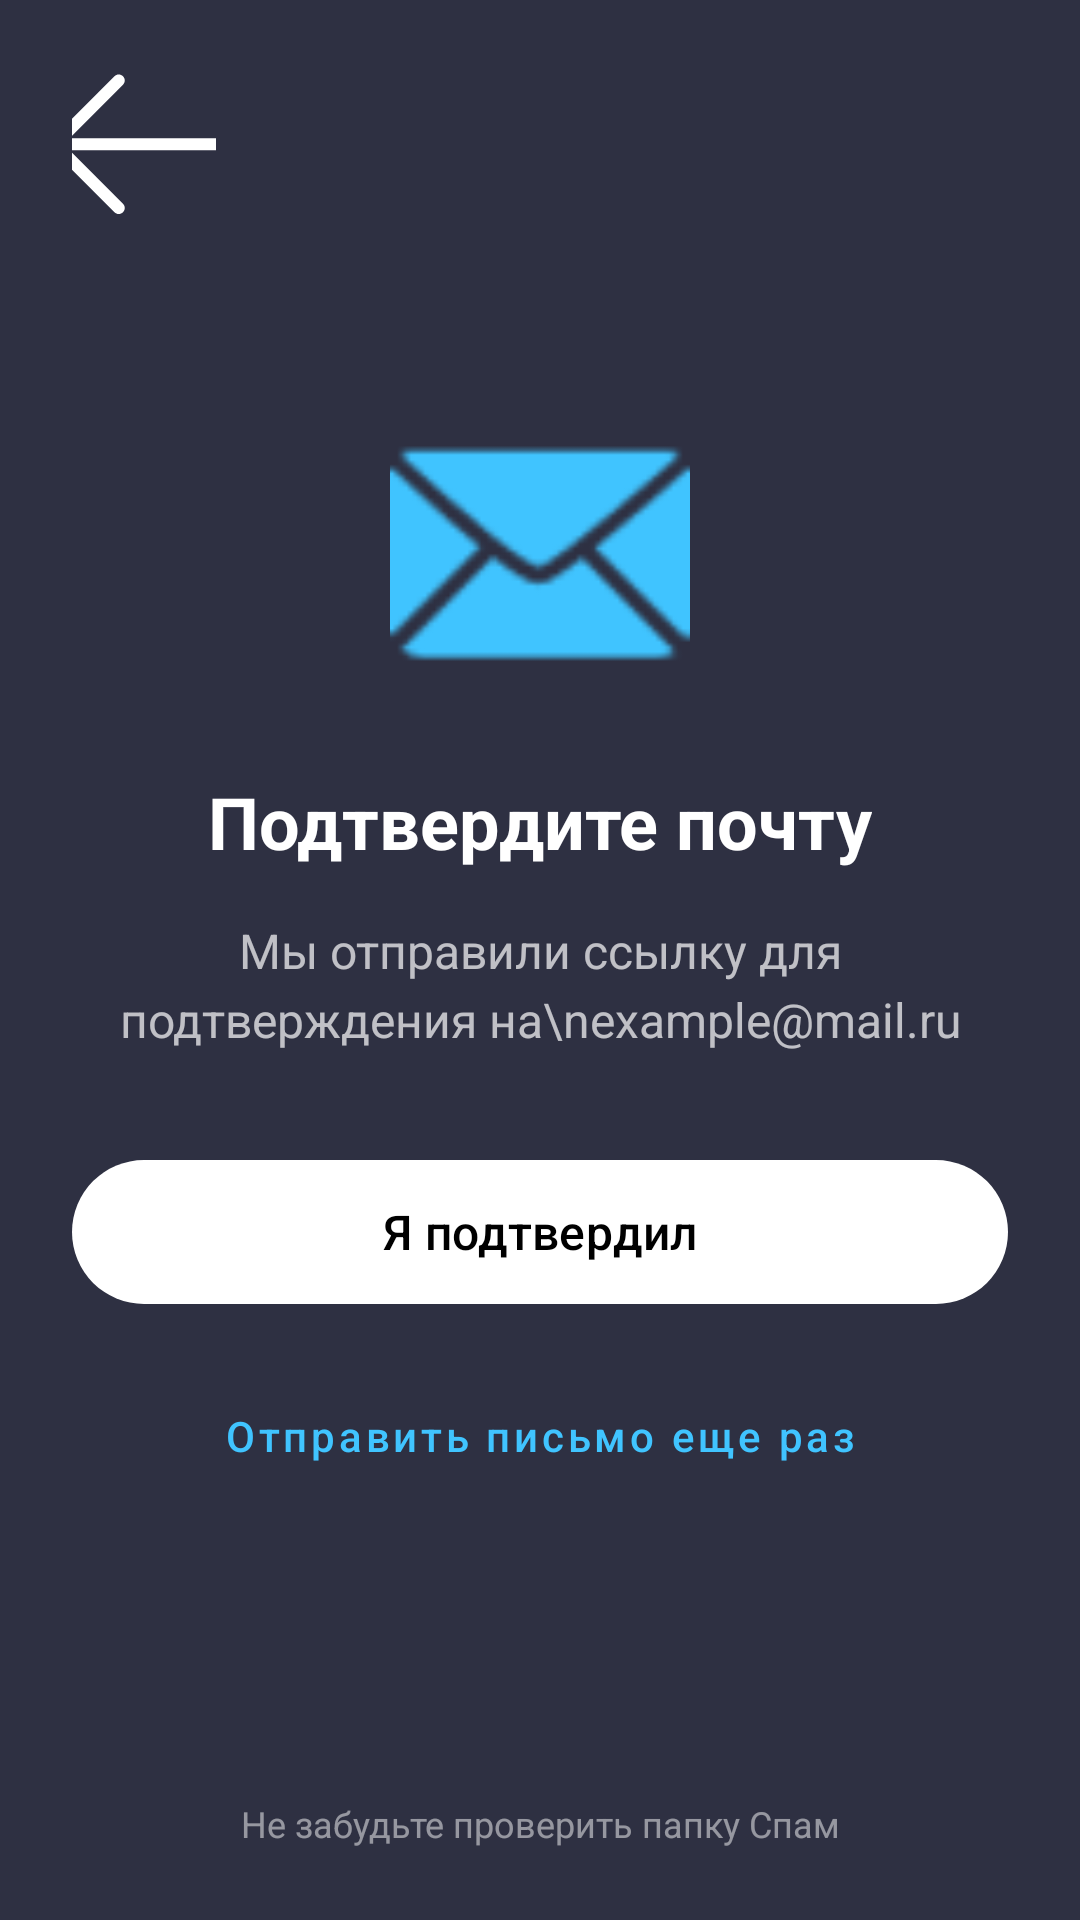

Icons on this 1080 x 1920 Android screen, each with the point to tap as (x,y):
email: (540,553)
Назад: (144,144)
